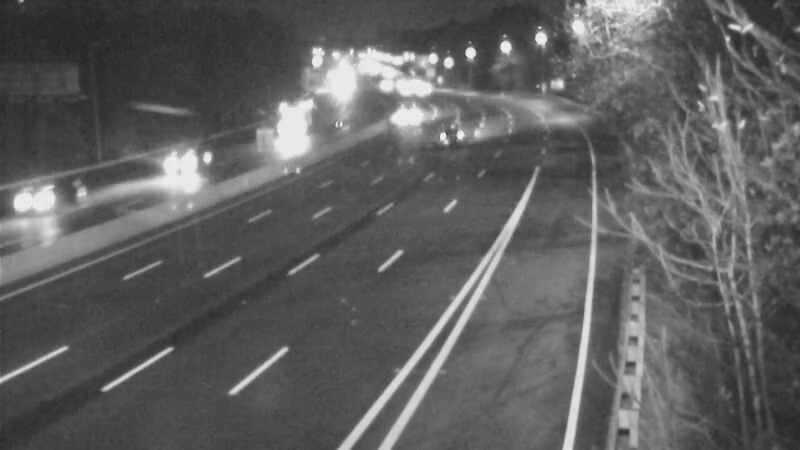vehicle: (145, 130, 225, 210), (1, 153, 76, 233), (377, 84, 427, 134), (425, 107, 475, 157), (257, 113, 307, 163)
